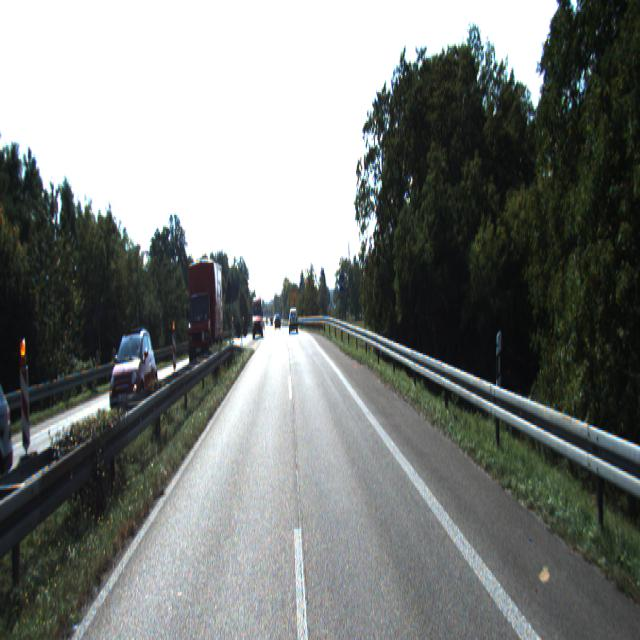Car: (0, 339, 27, 521), (184, 257, 226, 371), (111, 326, 159, 425), (252, 294, 264, 340), (289, 309, 298, 333)
